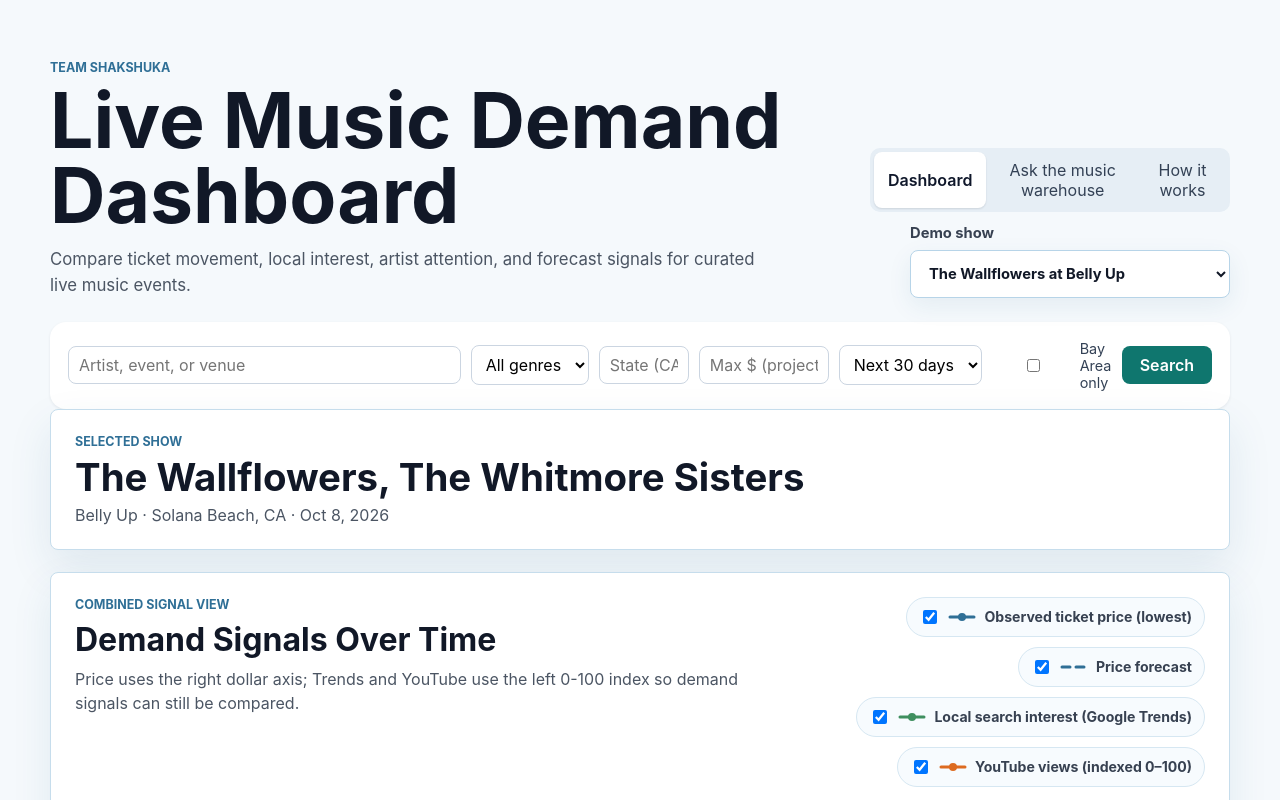
Test: a failed show fetch after an ask-row pick shows the error notice, not a spinner
Expected: the heading "The Wallflowers, The Whitmore Sisters" is shown, [75,454,804,500]
Click the button "Ask the music warehouse".
click(1063, 180)  # box [990,152,1135,208]
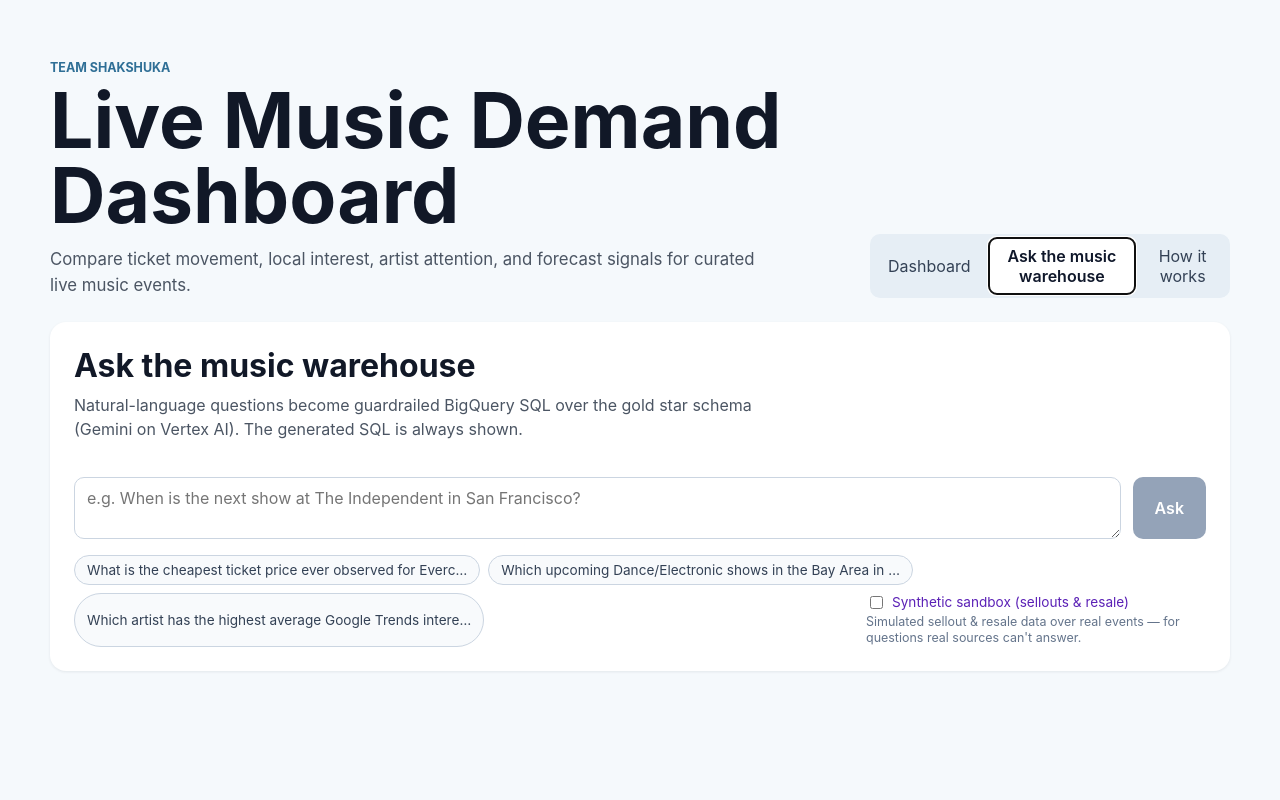
Type "Which shows?" into the text box named "Question".
click(597, 508); type("Which shows?")  # box [74,477,1121,539]
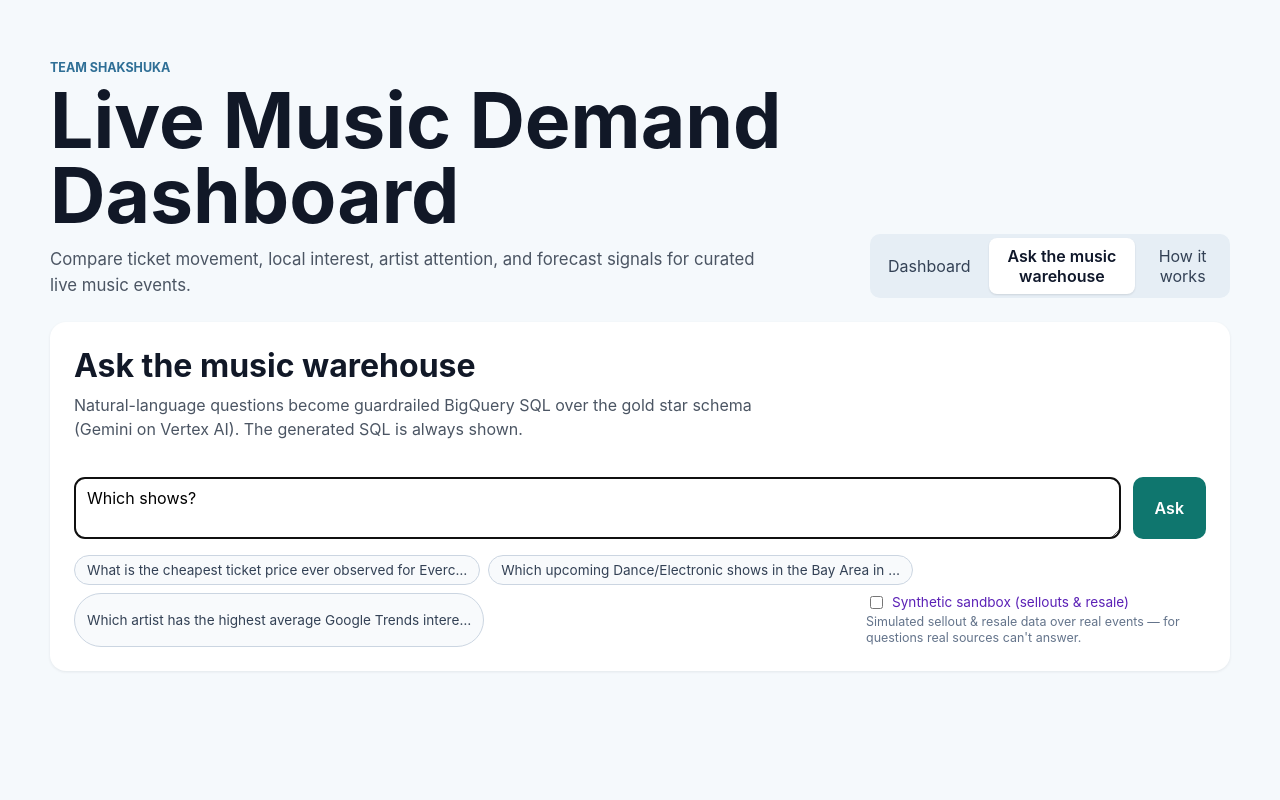
Click the button "Ask".
click(1169, 508)  # box [1133,477,1206,539]
(page scrolled)
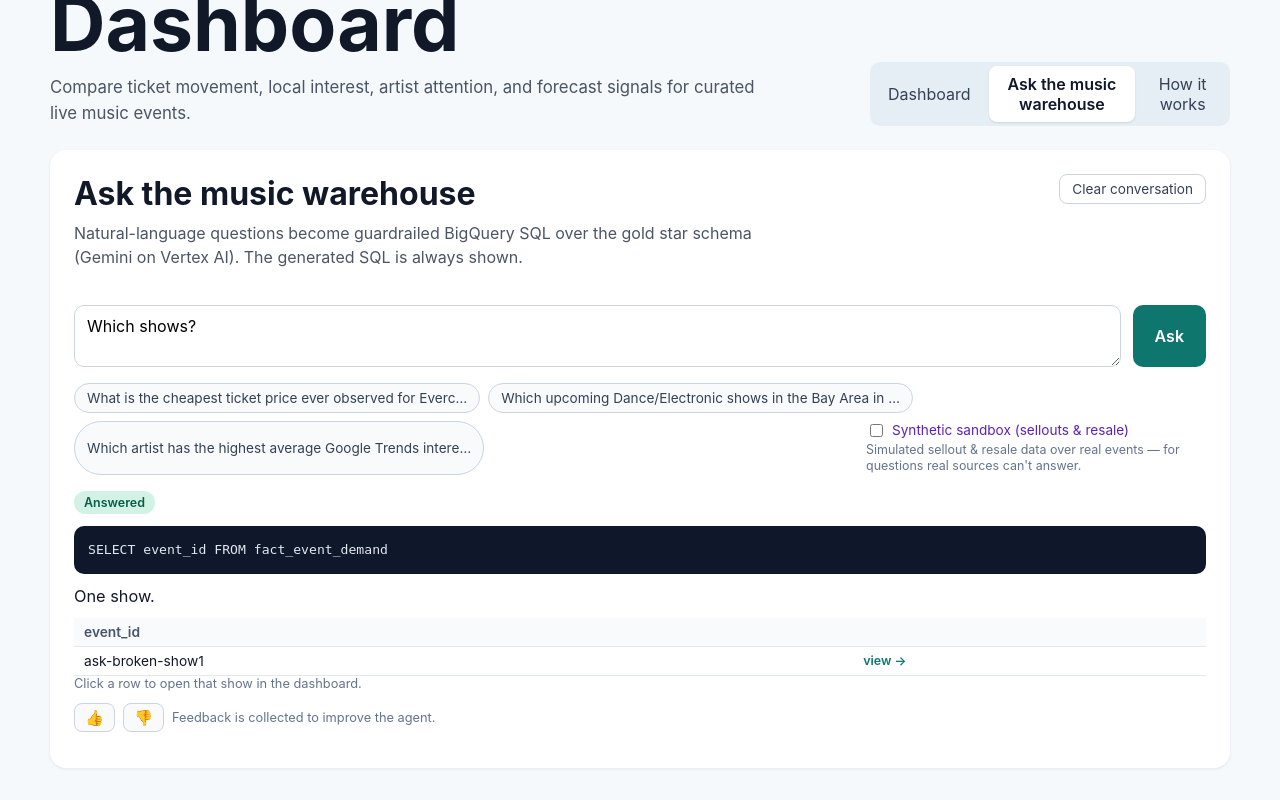
Click the button "ask-broken-show1 view →".
click(640, 661)  # box [74,646,1206,675]
(page scrolled)
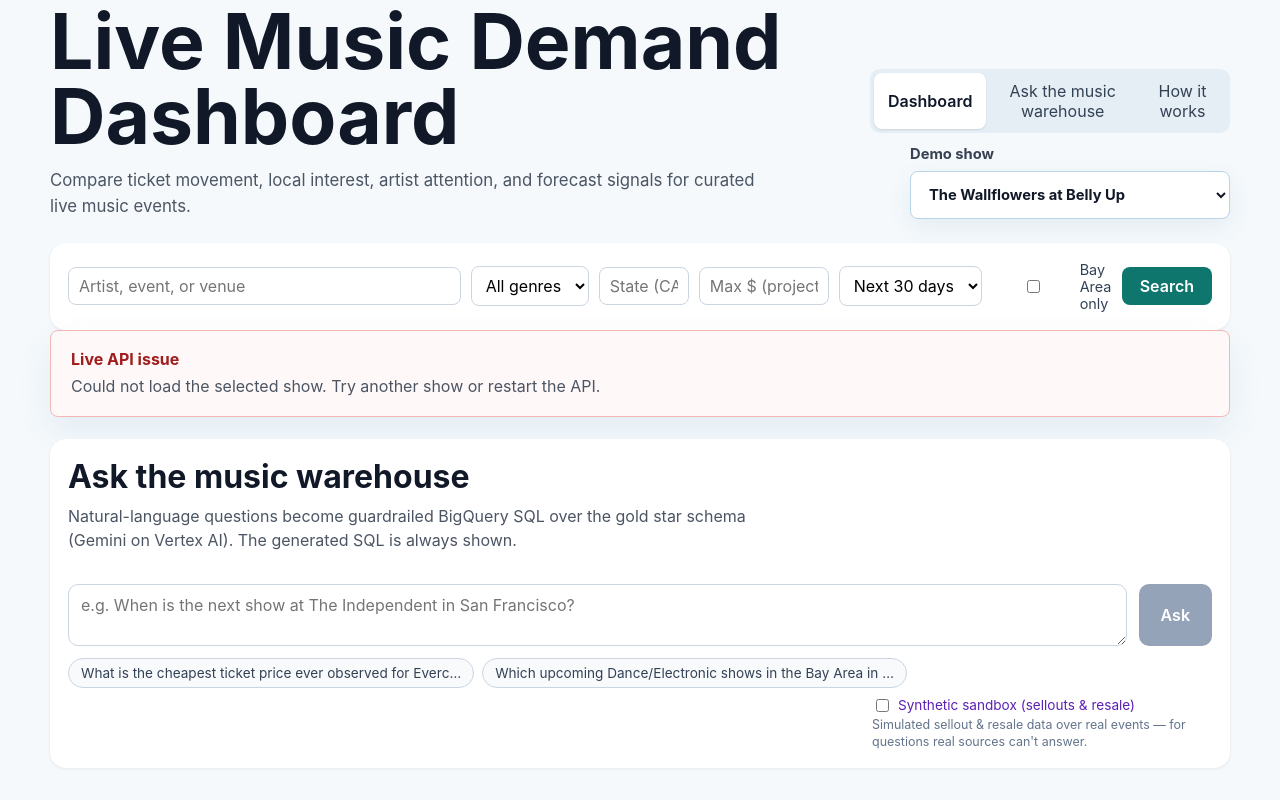
Expected: the message shows "Could not load the selected show", [71,376,600,396]
Expected: the dropdown labelled "Demo show" is enabled, [910,171,1230,219]
